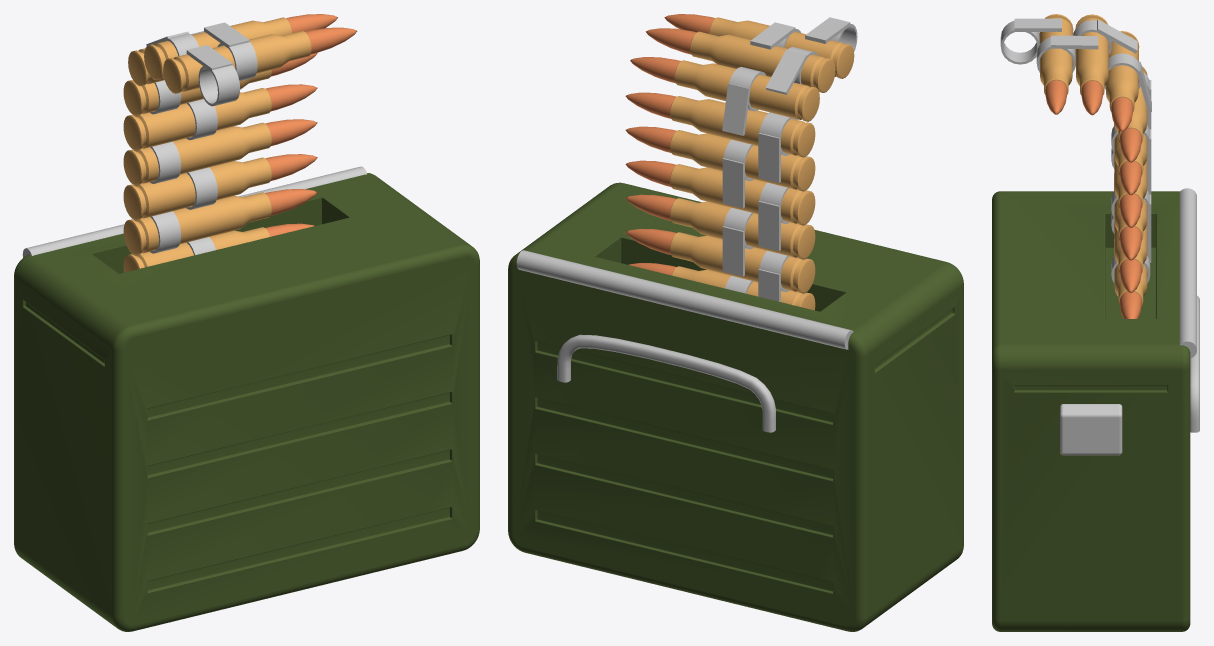
Rendered from pente.obj.
The picture shows the model from 3 angles, left to right: view 1: azimuth 30°, elevation 25°; view 2: azimuth 150°, elevation 25°; view 3: azimuth 270°, elevation 25°; orthographic projection. The views are drawn at different scales.
Size of the model in its own units: 0.584 by 0.7809 by 0.2936.
